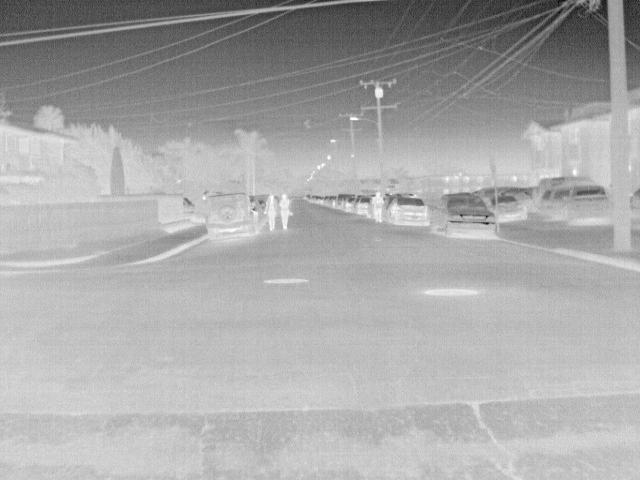car: (428, 191, 500, 240), (205, 191, 263, 241), (532, 174, 597, 214), (560, 185, 612, 227), (387, 194, 431, 225), (486, 197, 531, 222), (539, 186, 570, 216), (336, 193, 354, 212), (355, 196, 372, 216), (344, 197, 357, 213)
person: (263, 191, 279, 232), (277, 192, 292, 233), (369, 190, 385, 223)
